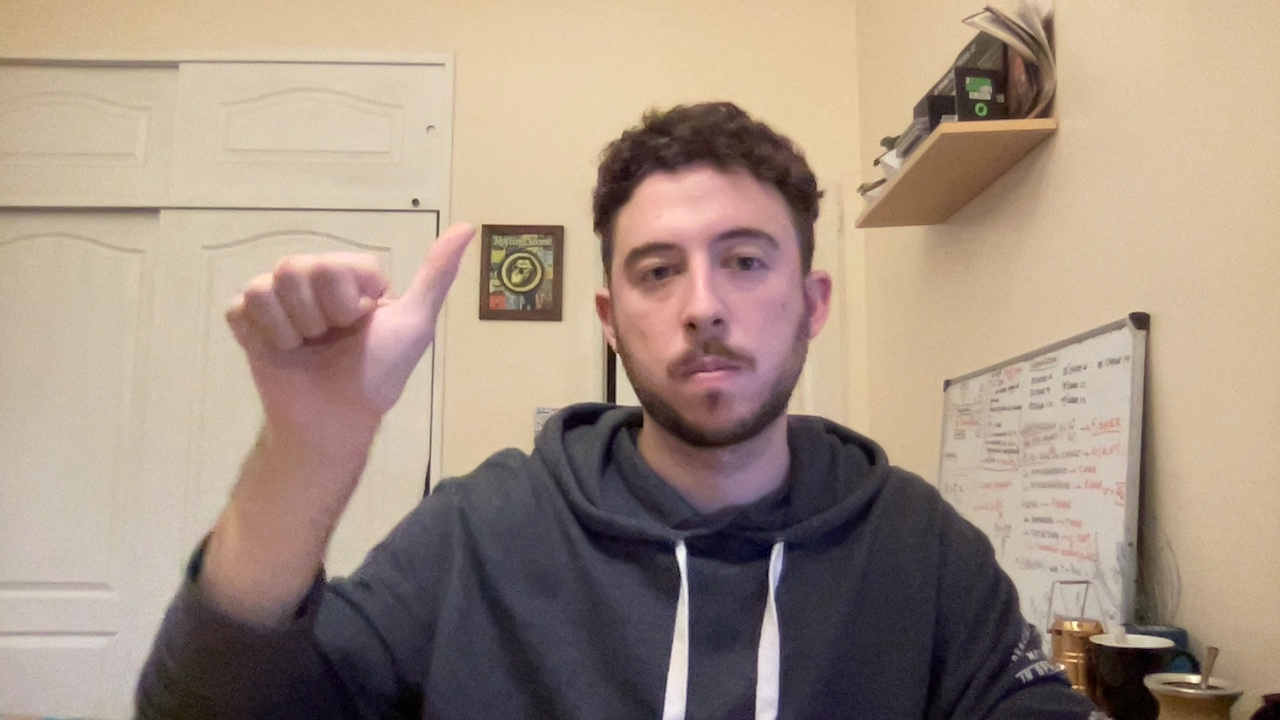pulgar: (181, 211, 499, 432)
